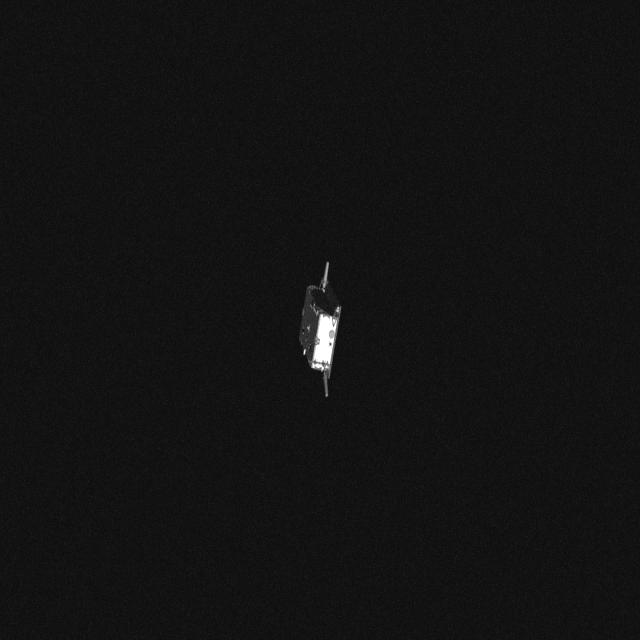satellite: (286, 256, 356, 404)
